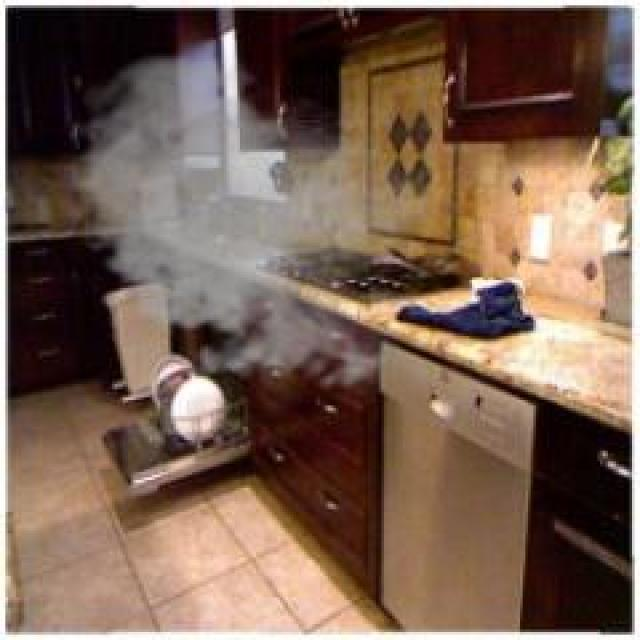smoke: (54, 45, 430, 400)
